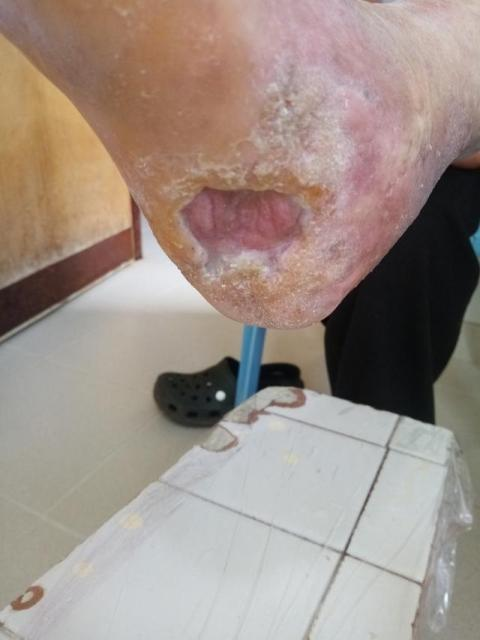wound: (169, 170, 325, 294)
